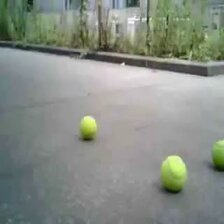tennis: (162, 156, 185, 191), (78, 116, 97, 138)
